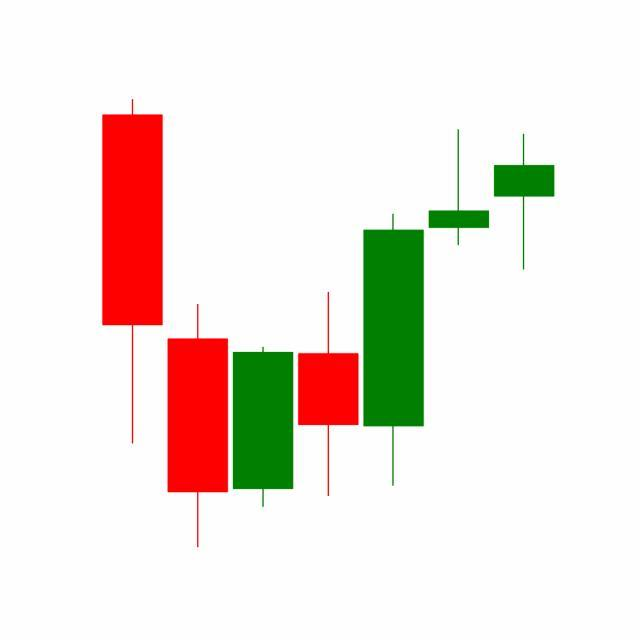Three Outside Up-Down: (295, 125, 492, 501)
